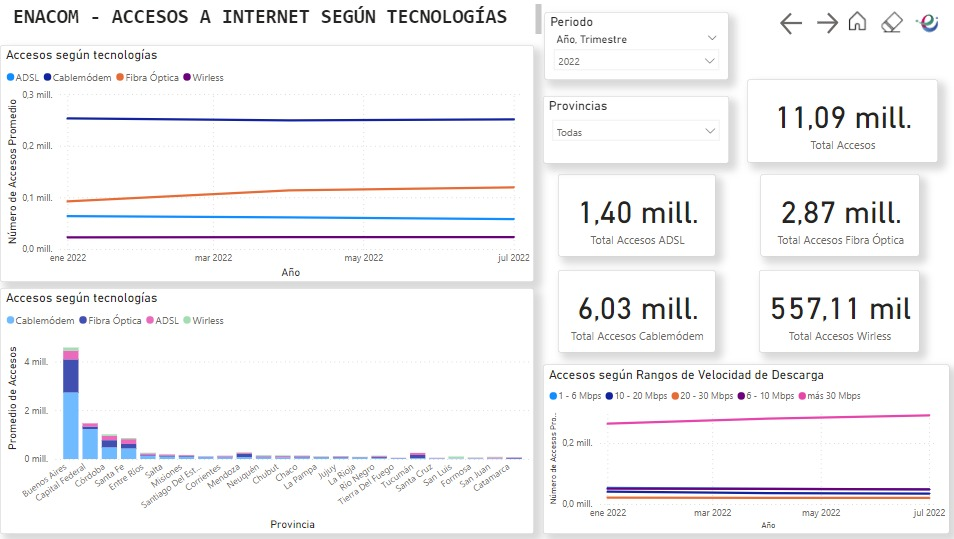

The dashboard page shown, as its layout file describes it:
{"tool":"powerbi","page":{"name":"AccesosTecnologia","canvas":[1280,720],"ordinal":3},"visuals":[{"type":"lineChart","title":"Accesos según tecnologías","fields":{"Y":["Avg(enacom acceso_tecnologia_provincia.adsl)","Avg(enacom acceso_tecnologia_provincia.cablemodem)","Avg(enacom acceso_tecnologia_provincia.fibra_optica)","Avg(enacom acceso_tecnologia_provincia.wirless)"],"Category":["Calendario.Date.Variación.Jerarquía de fechas.Año","Calendario.Date.Variación.Jerarquía de fechas.Trimestre"]},"box":[0,60,712,316],"z":0},{"type":"textbox","box":[12.1,0,714.7,54.5],"z":1000},{"type":"card","fields":{"Values":["enacom acceso_tecnologia_provincia.TotalAccesos"]},"box":[996.3,106,254.4,110.5],"z":2000},{"type":"slicer","title":"Periodo","fields":{"Values":["Calendario.Year","Calendario.Quarter"]},"box":[726.8,15.1,245.3,90.9],"z":3000},{"type":"card","fields":{"Values":["enacom acceso_tecnologia_provincia.TotalAccesosCablemodem"]},"box":[744,360,210,110],"z":4000},{"type":"card","fields":{"Values":["enacom acceso_tecnologia_provincia.TotalAccesosFibraO"]},"box":[1014,232,212,110],"z":5000},{"type":"card","fields":{"Values":["enacom acceso_tecnologia_provincia.TotalAccesosAdsl"]},"box":[744,232,210,110],"z":6000},{"type":"slicer","title":"Provincias","fields":{"Values":["enacom provincias.nombre"]},"box":[724,128,248,90],"z":7000},{"type":"columnChart","title":"Accesos según tecnologías","fields":{"Category":["enacom provincias.nombre"],"Y":["Avg(enacom acceso_tecnologia_provincia.cablemodem)","Avg(enacom acceso_tecnologia_provincia.fibra_optica)","Avg(enacom acceso_tecnologia_provincia.adsl)","Avg(enacom acceso_tecnologia_provincia.wirless)"]},"box":[0,384,712,328],"z":8000},{"type":"card","fields":{"Values":["enacom acceso_tecnologia_provincia.TotalAccesosWirless"]},"box":[1012,360,214,110],"z":9000},{"type":"lineChart","title":"Accesos según Rangos de Velocidad de Descarga","fields":{"Y":["Avg(enacom acceso_rango_velocidad_provincia.1_Mbps_6_Mbps)","Avg(enacom acceso_rango_velocidad_provincia.10_Mbps20_Mbps)","Avg(enacom acceso_rango_velocidad_provincia.20_Mbps_30_Mbps)","Avg(enacom acceso_rango_velocidad_provincia.6_Mbps_10_Mbps)","Avg(enacom acceso_rango_velocidad_provincia.Mas_30_Mbps)"],"Category":["Calendario.Date.Variación.Jerarquía de fechas.Año","Calendario.Date.Variación.Jerarquía de fechas.Trimestre"]},"box":[724,486,542,226],"z":10000},{"type":"actionButton","box":[1035.1,12.8,40.9,39.4],"z":11000},{"type":"actionButton","box":[1123.4,10.9,47.4,39.5],"z":12000},{"type":"actionButton","box":[1170.8,10.9,44.2,39.5],"z":13000},{"type":"actionButton","box":[1214.3,4,48.1,53.9],"z":14000},{"type":"actionButton","box":[1083.2,12.8,40.9,38],"z":15000}]}

Visuals, with their boxes in screenshot pixels (x1, y1, x2, y2), scaled from the page's 1280x720 canvas onto the 954x539 screenshot:
"Accesos según tecnologías" lineChart: (left=0, top=45, right=531, bottom=281)
textbox: (left=9, top=0, right=542, bottom=41)
card - enacom acceso_tecnologia_provincia.TotalAccesos: (left=743, top=79, right=932, bottom=162)
"Periodo" slicer: (left=542, top=11, right=725, bottom=79)
card - enacom acceso_tecnologia_provincia.TotalAccesosCablemodem: (left=555, top=270, right=711, bottom=352)
card - enacom acceso_tecnologia_provincia.TotalAccesosFibraO: (left=756, top=174, right=914, bottom=256)
card - enacom acceso_tecnologia_provincia.TotalAccesosAdsl: (left=555, top=174, right=711, bottom=256)
"Provincias" slicer: (left=540, top=96, right=724, bottom=163)
"Accesos según tecnologías" columnChart: (left=0, top=287, right=531, bottom=533)
card - enacom acceso_tecnologia_provincia.TotalAccesosWirless: (left=754, top=270, right=914, bottom=352)
"Accesos según Rangos de Velocidad de Descarga" lineChart: (left=540, top=364, right=944, bottom=533)
actionButton: (left=771, top=10, right=802, bottom=39)
actionButton: (left=837, top=8, right=873, bottom=38)
actionButton: (left=873, top=8, right=906, bottom=38)
actionButton: (left=905, top=3, right=941, bottom=43)
actionButton: (left=807, top=10, right=838, bottom=38)
